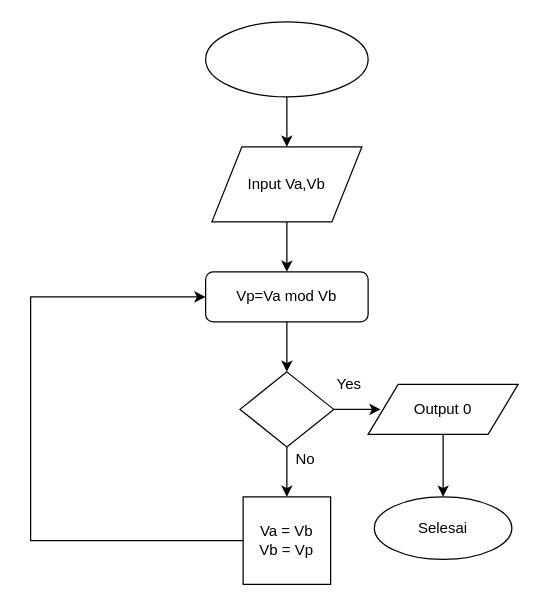
Some shapes in this 540 by 606 pixel diagram are drawn without their labels. The shapes that lost their labels are listed below. From the top down, each one's centre as x and y in pixels, then its label:
pixel 286 59: Mulai
pixel 286 409: Vp = 0
